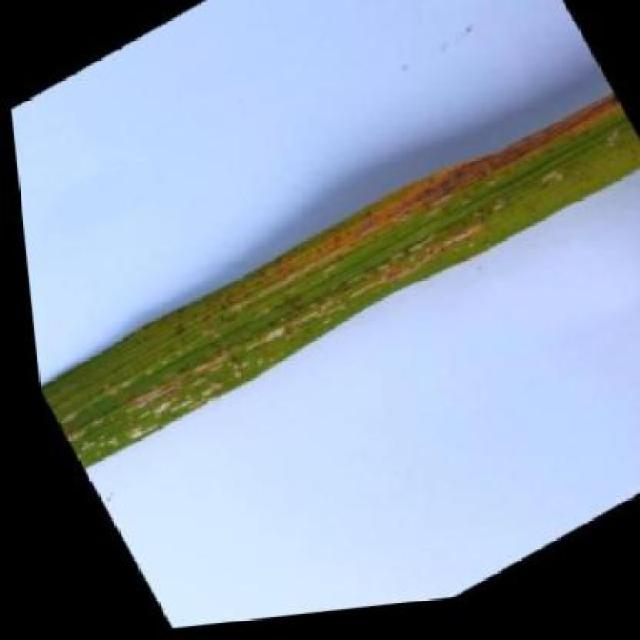Rice False Smut: (9, 71, 640, 486)
